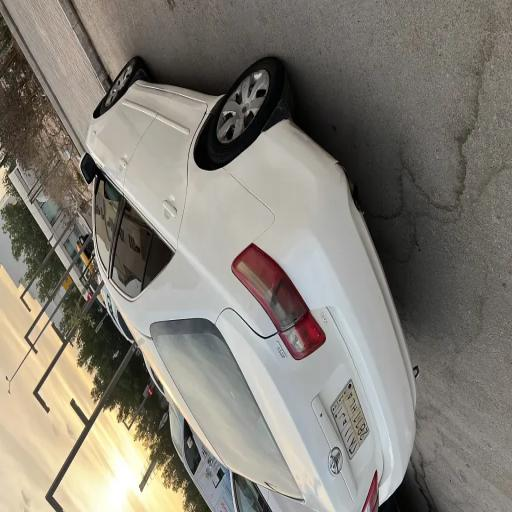license-plates: (330, 378, 370, 460)
